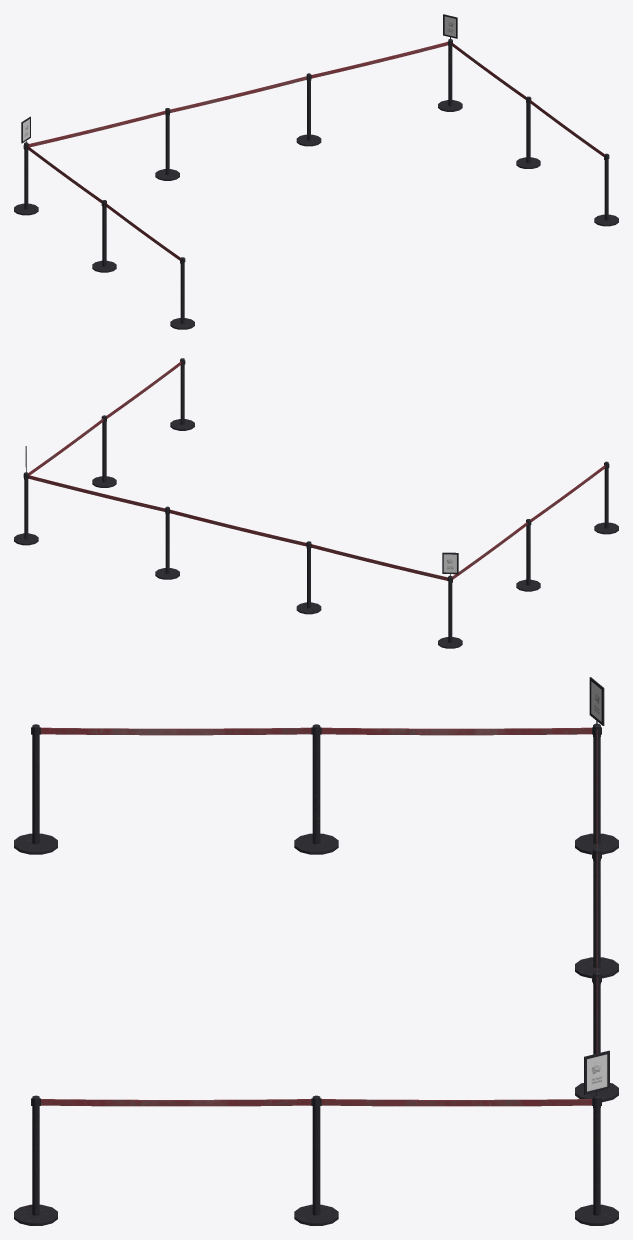
Rendered from QueueBarrier_Sign_Paper (1).fbx.
3 renders of one model, top to bottom at view 1: azimuth 30°, elevation 25°; view 2: azimuth 150°, elevation 25°; view 3: azimuth 270°, elevation 25°, orthographic. The views are drawn at different scales.
Visible parts, largest first — view 1: QueueBarrier_Poles, QueueBarrier_Ribbon; view 2: QueueBarrier_Poles, QueueBarrier_Ribbon; view 3: QueueBarrier_Poles, QueueBarrier_Ribbon, QueueBarrier_Sign_Paper (2).
Part boxes in pixels (x1,y1,x2,y2): QueueBarrier_Poles: (14,39,618,329); QueueBarrier_Ribbon: (27,41,604,260); QueueBarrier_Poles: (14,358,618,648); QueueBarrier_Ribbon: (28,361,605,580); QueueBarrier_Poles: (14,723,618,1225); QueueBarrier_Ribbon: (41,727,597,1106); QueueBarrier_Sign_Paper (2): (584,1050,609,1095).
Bounding box in the file's own units: 6.58 × 4.31 × 1.28.
Materials: 4 (4 with a texture image).
